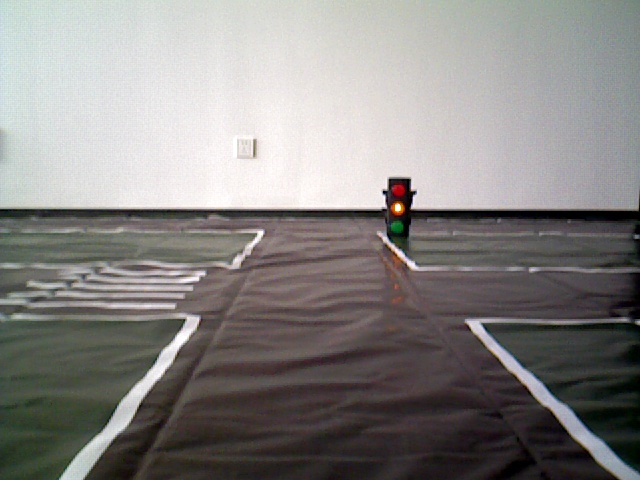yellow: (384, 174, 412, 239)
